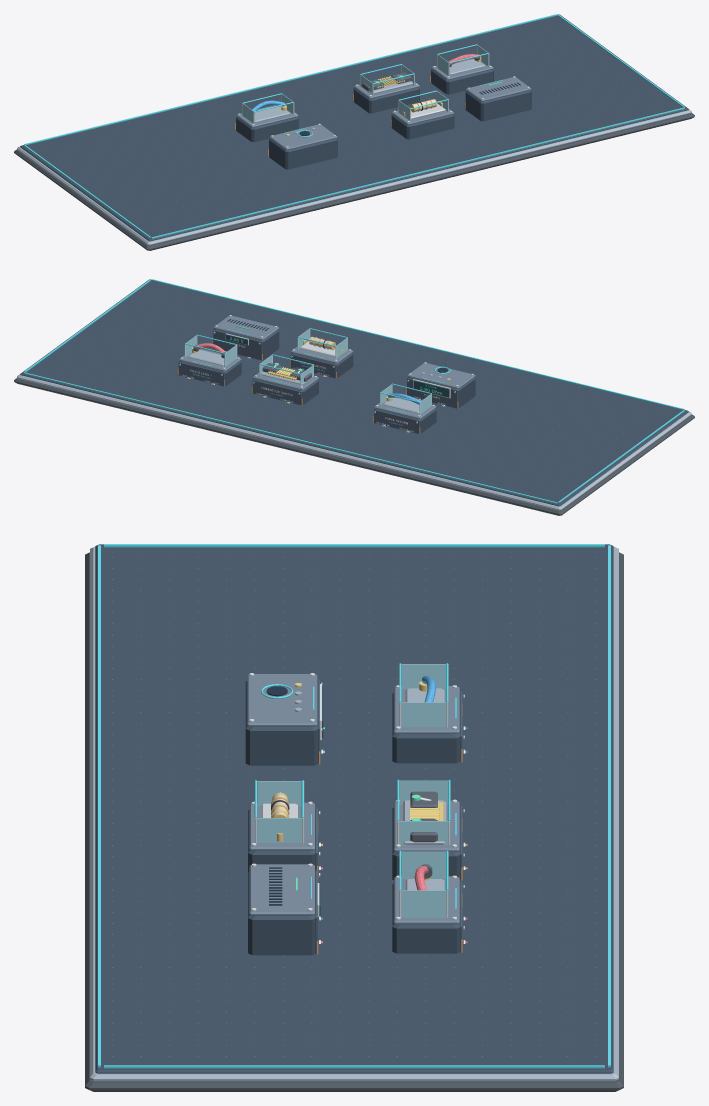
File: Level37_Complete_ArtKit_Showcase (1).fbx
3 views of the same model, one above another, from view 1: azimuth 30°, elevation 25°; view 2: azimuth 150°, elevation 25°; view 3: azimuth 270°, elevation 25° (orthographic). The views are drawn at different scales.
Visible parts, largest first — view 1: Model::00_Showcase_Display_Board__L37_SHOWCASE_MagneticPadde, Model::00_Showcase_Display_Board__L37_SHOWCASE_MatteBlack_Ba, Model::00_Showcase_Display_Board__L37_SHOWCASE_BrushedSteelF, Model::06_Kelvin_Sense_Meter__L37_KELVIN_METER_Chassis, Model::01_5V_Regulated_Supply__L37_SUPPLY_Chassis, Model::00_Showcase_Display_Board__L37_SHOWCASE_BlueRimZ_4.45, Model::00_Showcase_Display_Board__L37_SHOWCASE_BlueRimZ_-4.4, Model::04_5Ohm_Connector_Sample__L37_CONNECTOR_Chassis, Model::02_100Ohm_Current_Limiter__L37_LIMITER_Chassis, Model::06_Kelvin_Sense_Meter__L37_KELVIN_METER_Top_Lid, Model::03_Force_Lead_Positive__L37_FORCE_RED_Chassis, Model::05_Force_Return_Negative__L37_FORCE_BLUE_Chassis (+1 smaller); view 2: Model::00_Showcase_Display_Board__L37_SHOWCASE_MagneticPadde, Model::00_Showcase_Display_Board__L37_SHOWCASE_MatteBlack_Ba, Model::00_Showcase_Display_Board__L37_SHOWCASE_BrushedSteelF, Model::00_Showcase_Display_Board__L37_SHOWCASE_BlueRimZ_-4.4, Model::00_Showcase_Display_Board__L37_SHOWCASE_BlueRimZ_4.45, Model::06_Kelvin_Sense_Meter__L37_KELVIN_METER_Top_Lid, Model::01_5V_Regulated_Supply__L37_SUPPLY_Top_Lid, Model::01_5V_Regulated_Supply__L37_SUPPLY_Front_Console_Plat, Model::04_5Ohm_Connector_Sample__L37_CONNECTOR_Front_Console, Model::03_Force_Lead_Positive__L37_FORCE_RED_Front_Console_P, Model::05_Force_Return_Negative__L37_FORCE_BLUE_Front_Consol, Model::02_100Ohm_Current_Limiter__L37_LIMITER_Front_Console_ (+6 smaller); view 3: Model::00_Showcase_Display_Board__L37_SHOWCASE_MagneticPadde, Model::00_Showcase_Display_Board__L37_SHOWCASE_MatteBlack_Ba, Model::00_Showcase_Display_Board__L37_SHOWCASE_BrushedSteelF, Model::06_Kelvin_Sense_Meter__L37_KELVIN_METER_Top_Lid, Model::01_5V_Regulated_Supply__L37_SUPPLY_Top_Lid, Model::06_Kelvin_Sense_Meter__L37_KELVIN_METER_Chassis, Model::01_5V_Regulated_Supply__L37_SUPPLY_Chassis, Model::03_Force_Lead_Positive__L37_FORCE_RED_CrystalSideWall (×2), Model::05_Force_Return_Negative__L37_FORCE_BLUE_Chassis, Model::03_Force_Lead_Positive__L37_FORCE_RED_Chassis, Model::05_Force_Return_Negative__L37_FORCE_BLUE_CrystalSideW (×2), Model::02_100Ohm_Current_Limiter__L37_LIMITER_CrystalSideWal (×2) (+11 smaller).
Part boxes in pixels (bbox=[...]): Model::00_Showcase_Display_Board__L37_SHOWCASE_MagneticPadde: bbox=[20, 14, 688, 241]; Model::00_Showcase_Display_Board__L37_SHOWCASE_MatteBlack_Ba: bbox=[14, 113, 694, 250]; Model::00_Showcase_Display_Board__L37_SHOWCASE_BrushedSteelF: bbox=[17, 109, 691, 245]; Model::06_Kelvin_Sense_Meter__L37_KELVIN_METER_Chassis: bbox=[269, 138, 337, 169]; Model::01_5V_Regulated_Supply__L37_SUPPLY_Chassis: bbox=[465, 90, 531, 121]; Model::00_Showcase_Display_Board__L37_SHOWCASE_BlueRimZ_4.45: bbox=[151, 107, 684, 238]; Model::00_Showcase_Display_Board__L37_SHOWCASE_BlueRimZ_-4.4: bbox=[24, 14, 557, 145]; Model::04_5Ohm_Connector_Sample__L37_CONNECTOR_Chassis: bbox=[354, 87, 419, 113]; Model::02_100Ohm_Current_Limiter__L37_LIMITER_Chassis: bbox=[391, 114, 454, 139]; Model::06_Kelvin_Sense_Meter__L37_KELVIN_METER_Top_Lid: bbox=[269, 124, 337, 149]; Model::03_Force_Lead_Positive__L37_FORCE_RED_Chassis: bbox=[431, 69, 493, 94]; Model::05_Force_Return_Negative__L37_FORCE_BLUE_Chassis: bbox=[236, 117, 298, 141]; Model::00_Showcase_Display_Board__L37_SHOWCASE_MagneticPadde: bbox=[20, 279, 688, 506]; Model::00_Showcase_Display_Board__L37_SHOWCASE_MatteBlack_Ba: bbox=[14, 378, 694, 515]; Model::00_Showcase_Display_Board__L37_SHOWCASE_BrushedSteelF: bbox=[17, 374, 691, 510]; Model::00_Showcase_Display_Board__L37_SHOWCASE_BlueRimZ_-4.4: bbox=[24, 372, 557, 503]; Model::00_Showcase_Display_Board__L37_SHOWCASE_BlueRimZ_4.45: bbox=[151, 279, 684, 410]; Model::06_Kelvin_Sense_Meter__L37_KELVIN_METER_Top_Lid: bbox=[407, 363, 475, 388]; Model::01_5V_Regulated_Supply__L37_SUPPLY_Top_Lid: bbox=[213, 315, 278, 340]; Model::01_5V_Regulated_Supply__L37_SUPPLY_Front_Console_Plat: bbox=[213, 330, 262, 360]; Model::04_5Ohm_Connector_Sample__L37_CONNECTOR_Front_Console: bbox=[252, 380, 301, 405]; Model::03_Force_Lead_Positive__L37_FORCE_RED_Front_Console_P: bbox=[178, 362, 224, 386]; Model::05_Force_Return_Negative__L37_FORCE_BLUE_Front_Consol: bbox=[374, 409, 419, 433]; Model::02_100Ohm_Current_Limiter__L37_LIMITER_Front_Console_: bbox=[290, 354, 336, 378]; Model::00_Showcase_Display_Board__L37_SHOWCASE_MagneticPadde: bbox=[95, 544, 613, 1073]; Model::00_Showcase_Display_Board__L37_SHOWCASE_MatteBlack_Ba: bbox=[85, 552, 623, 1091]; Model::00_Showcase_Display_Board__L37_SHOWCASE_BrushedSteelF: bbox=[90, 546, 618, 1081]; Model::06_Kelvin_Sense_Meter__L37_KELVIN_METER_Top_Lid: bbox=[247, 674, 317, 726]; Model::01_5V_Regulated_Supply__L37_SUPPLY_Top_Lid: bbox=[249, 864, 314, 915]; Model::06_Kelvin_Sense_Meter__L37_KELVIN_METER_Chassis: bbox=[245, 681, 317, 765]; Model::01_5V_Regulated_Supply__L37_SUPPLY_Chassis: bbox=[248, 871, 315, 955]; Model::03_Force_Lead_Positive__L37_FORCE_RED_CrystalSideWall (×2): bbox=[401, 851, 448, 917]; Model::05_Force_Return_Negative__L37_FORCE_BLUE_Chassis: bbox=[392, 693, 460, 763]; Model::03_Force_Lead_Positive__L37_FORCE_RED_Chassis: bbox=[392, 883, 460, 953]; Model::05_Force_Return_Negative__L37_FORCE_BLUE_CrystalSideW (×2): bbox=[401, 664, 448, 727]; Model::02_100Ohm_Current_Limiter__L37_LIMITER_CrystalSideWal (×2): bbox=[257, 781, 304, 842].
Bounding box in the file's own units: 22.1 × 1.54 × 9.4.
